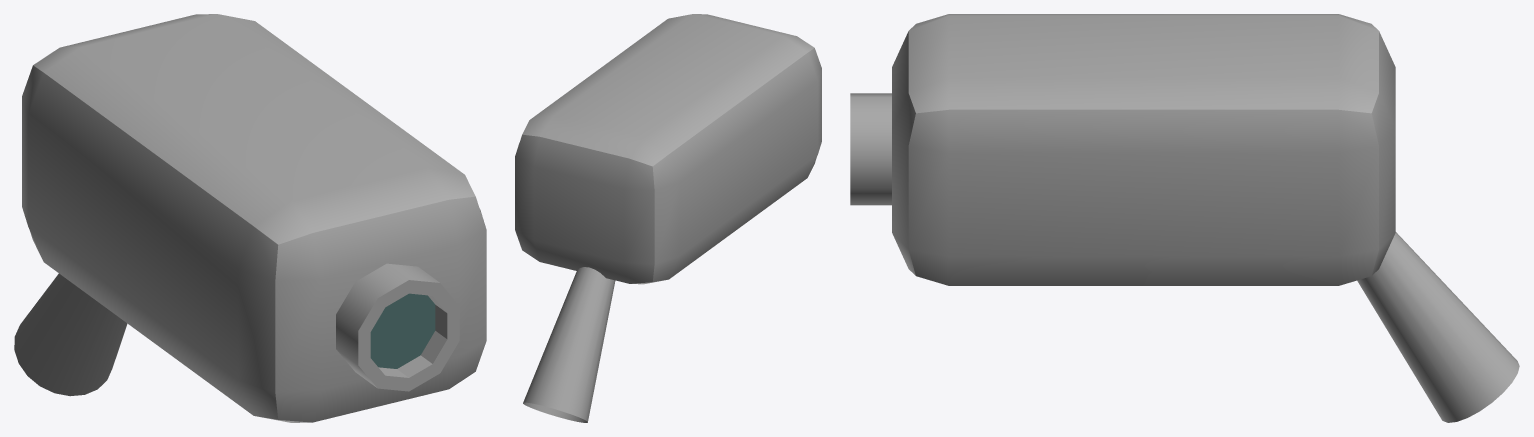
Rendered from Camera.fbx.
3 views of the same model, side by side, from view 1: azimuth 30°, elevation 25°; view 2: azimuth 150°, elevation 25°; view 3: azimuth 270°, elevation 25° (orthographic). The views are drawn at different scales.
Parts seen in each view (by area): view 1: Body, Pipe; view 2: Body, Pipe; view 3: Body, Pipe.
Boxes of the visible parts, bbox=[...] form: Body: bbox=[22, 14, 486, 422]; Pipe: bbox=[14, 273, 127, 396]; Body: bbox=[515, 14, 821, 284]; Pipe: bbox=[523, 267, 615, 422]; Body: bbox=[850, 14, 1395, 285]; Pipe: bbox=[1357, 232, 1519, 422].
Size of the model in its own units: 0.00744 by 0.0118 by 0.0191.
